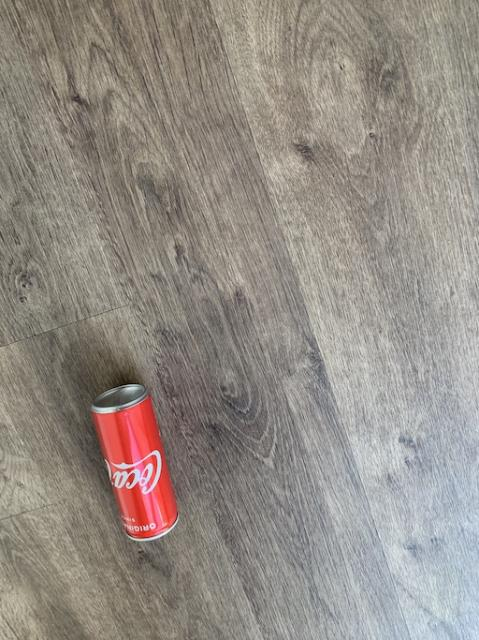metal: (90, 383, 176, 539)
